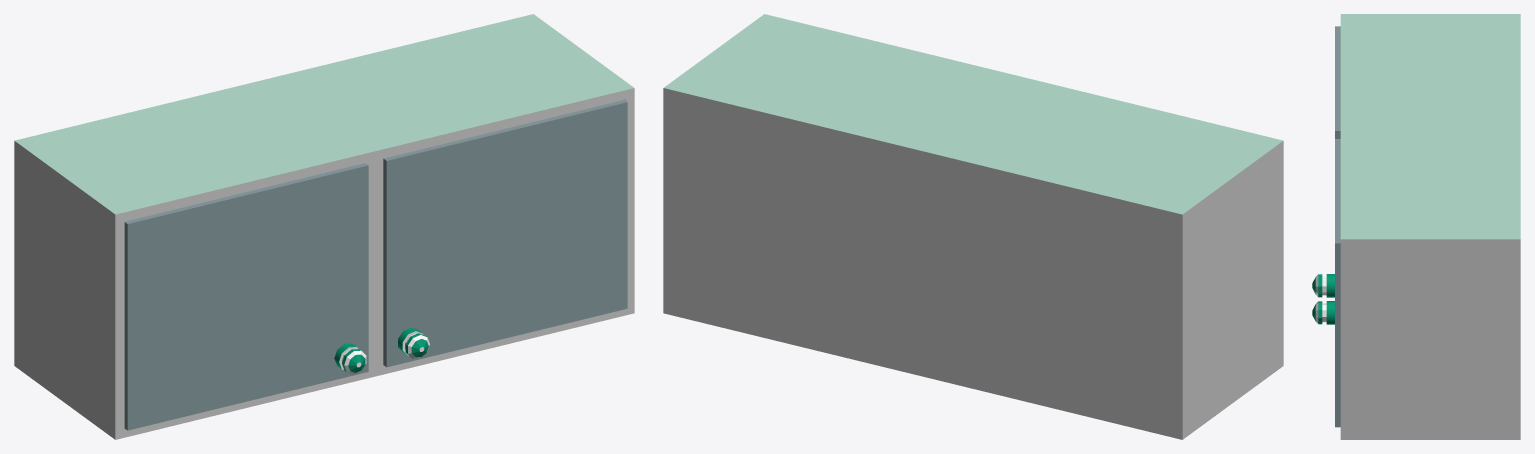
The model's file is Cabinet_Green_Upper2.fbx.
The picture shows the model from 3 angles, left to right: view 1: azimuth 30°, elevation 25°; view 2: azimuth 150°, elevation 25°; view 3: azimuth 270°, elevation 25°; orthographic projection. The views are drawn at different scales.
Visible parts, largest first — view 1: Cabinet_Green_Upper2, Cabinet_Green_Upper, Cabinet_Green_Upper.001; view 2: Cabinet_Green_Upper2; view 3: Cabinet_Green_Upper2, Cabinet_Green_Upper, Cabinet_Green_Upper.001.
Boxes of the visible parts, x1=… form: Cabinet_Green_Upper2: x1=14, y1=14, x2=634, y2=439; Cabinet_Green_Upper: x1=383, y1=100, x2=627, y2=367; Cabinet_Green_Upper.001: x1=124, y1=163, x2=368, y2=430; Cabinet_Green_Upper2: x1=663, y1=14, x2=1283, y2=439; Cabinet_Green_Upper2: x1=1340, y1=14, x2=1520, y2=439; Cabinet_Green_Upper: x1=1312, y1=139, x2=1340, y2=427; Cabinet_Green_Upper.001: x1=1312, y1=26, x2=1340, y2=297.
Size of the model in its own units: 200 by 82.98 by 78.08.
